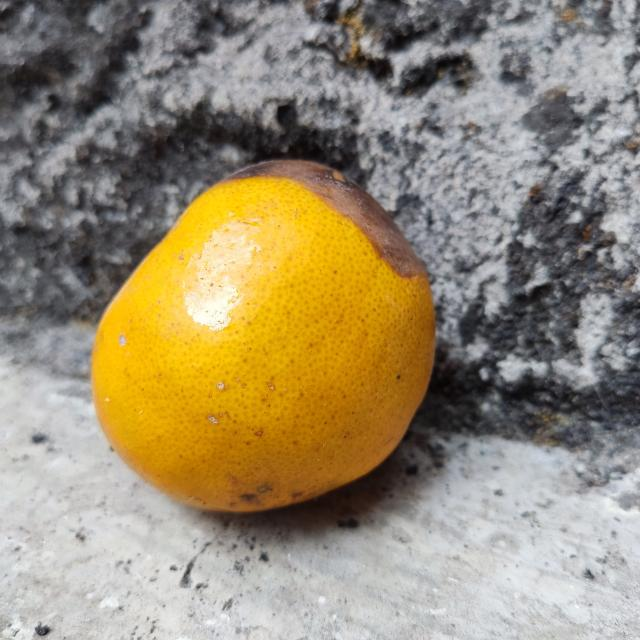orange: (85, 156, 438, 514)
